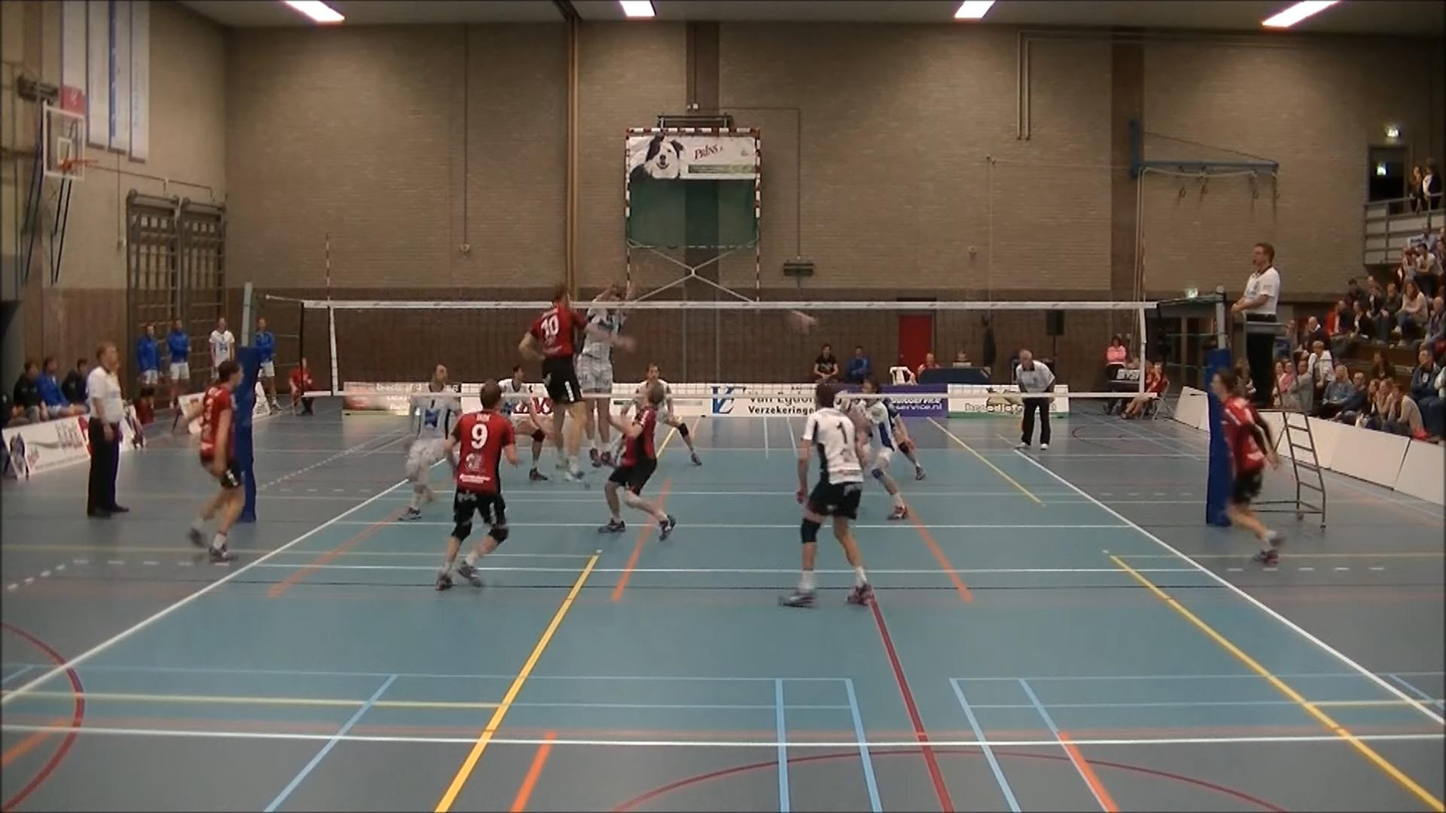attacco: (524, 283, 637, 489)
muro: (575, 272, 631, 482)
